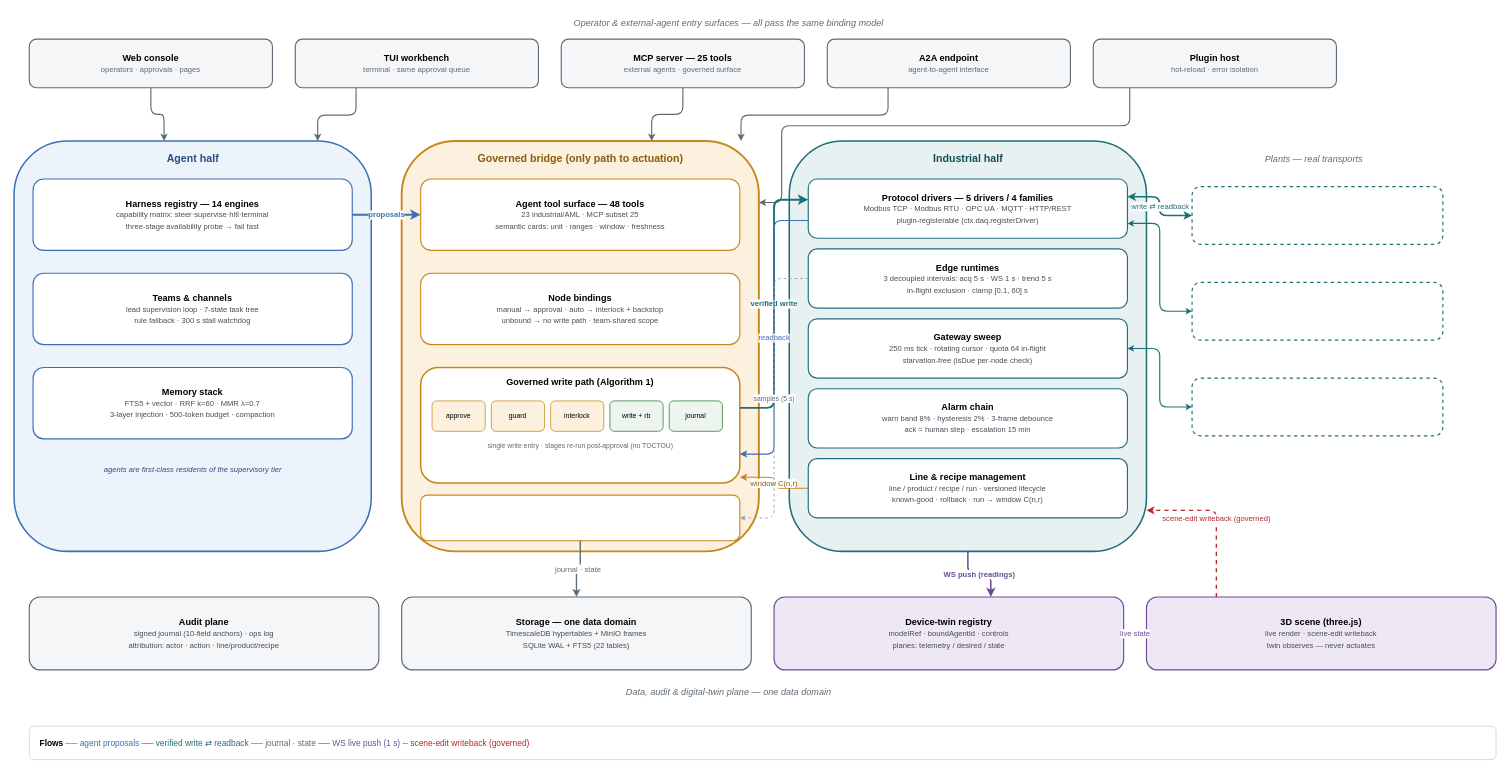
This 1509x773 diagram has some shape labels left out. Each missing label, with the centre of its shape:
"Backstop (bounded autonomy) 30 s cadence · breach ≥ 3 → rollback (K=2) → human" goes at point (580, 517).
"cast-film physics twin ODE model · offline optimum W* = 89.894" goes at point (1317, 406).
"film-line scenario strategy signals · 0–100 °C loops" goes at point (1317, 310).
"Real devices Modbus · OPC UA · MQTT · HTTP endpoints" goes at point (1317, 215).
